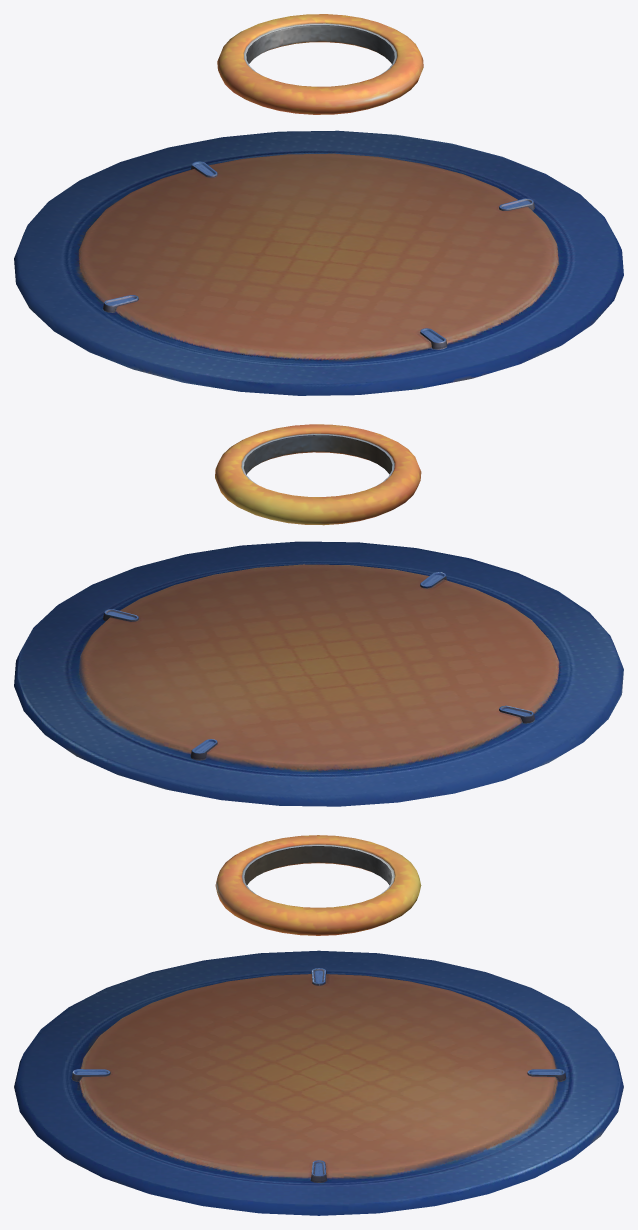
File: pref_TPC_v2_WSJ_NeutralScoreArea03_orange_interfere_lv1.fbx
The picture shows the model from 3 angles, top to bottom: view 1: azimuth 30°, elevation 25°; view 2: azimuth 150°, elevation 25°; view 3: azimuth 270°, elevation 25°; orthographic projection.
Visible parts, largest first — view 1: sm_prop_platform06a_lv1, sm_prop_platform06b_lv1; view 2: sm_prop_platform06a_lv1, sm_prop_platform06b_lv1; view 3: sm_prop_platform06a_lv1, sm_prop_platform06b_lv1.
Boxes of the visible parts, x1,y1,x2,y2 form: sm_prop_platform06a_lv1: (14,130,623,395); sm_prop_platform06b_lv1: (217,14,423,114); sm_prop_platform06a_lv1: (14,541,623,806); sm_prop_platform06b_lv1: (215,424,421,525); sm_prop_platform06a_lv1: (14,950,623,1215); sm_prop_platform06b_lv1: (215,835,421,935).
Size of the model in its own units: 7.46 by 2.87 by 7.46.
